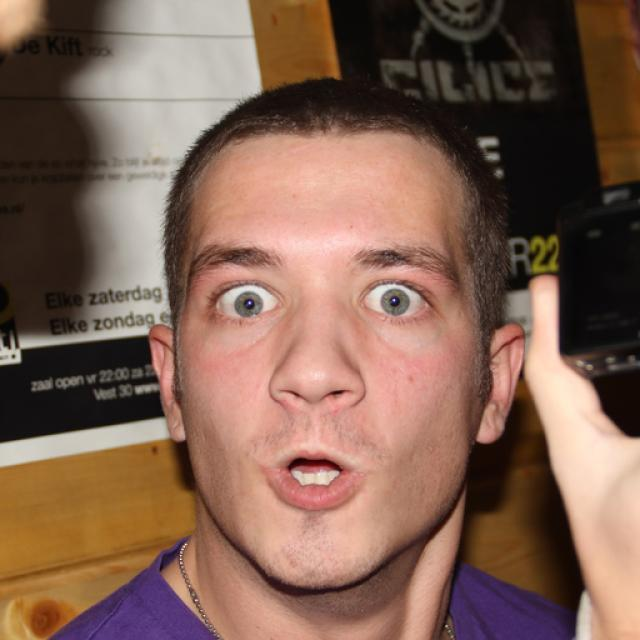surprise: (176, 123, 484, 588)
